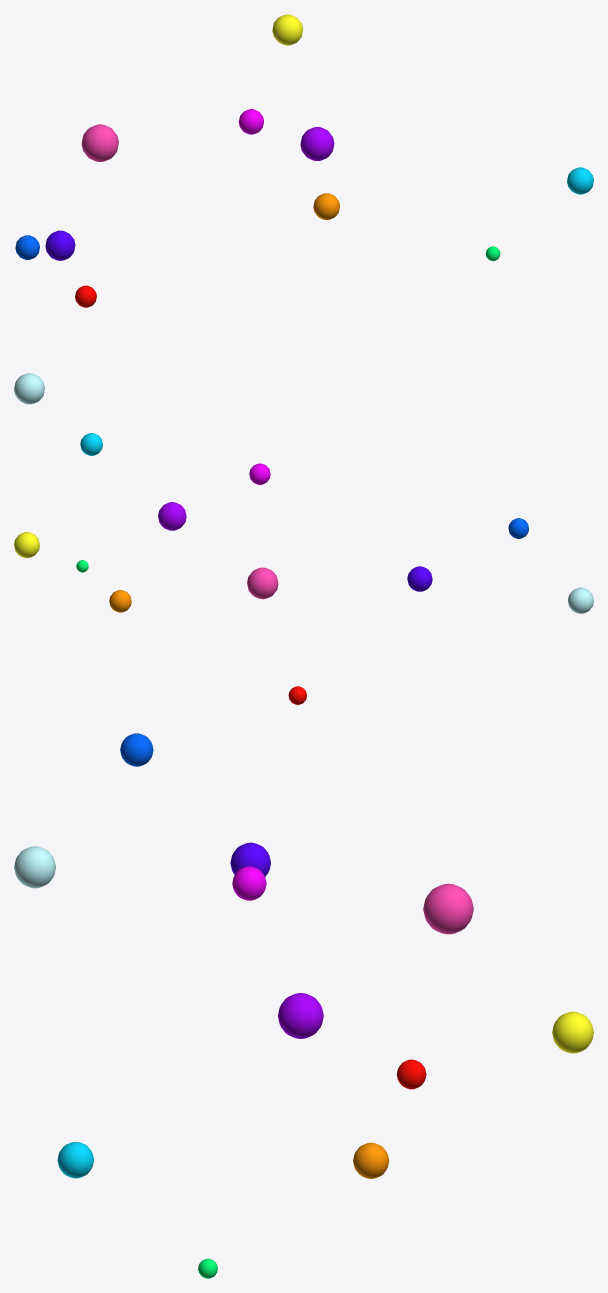
3 renders of one model, top to bottom at view 1: azimuth 30°, elevation 25°; view 2: azimuth 150°, elevation 25°; view 3: azimuth 270°, elevation 25°, orthographic. The views are drawn at different scales.
Parts seen in each view (by area): view 1: オブジェクト.001, オブジェクト.009, オブジェクト.008, オブジェクト.006, オブジェクト.005, オブジェクト.007, オブジェクト.010, オブジェクト.003; view 2: オブジェクト.001, オブジェクト.009, オブジェクト.008, オブジェクト.006, オブジェクト.005, オブジェクト.007, オブジェクト.010, オブジェクト.003; view 3: オブジェクト.001, オブジェクト.009, オブジェクト.008, オブジェクト.006, オブジェクト.007, オブジェクト.010, オブジェクト.005, オブジェクト.003, オブジェクト, オブジェクト.002.
Boxes of the visible parts, x1,y1,x2,y2 form: オブジェクト.001: (81,124,118,161); オブジェクト.009: (300,127,334,160); オブジェクト.008: (14,373,44,404); オブジェクト.006: (272,14,302,45); オブジェクト.005: (45,230,75,260); オブジェクト.007: (567,167,593,194); オブジェクト.010: (313,193,339,219); オブジェクト.003: (238,109,263,134); オブジェクト.001: (247,567,278,599); オブジェクト.009: (158,502,186,530); オブジェクト.008: (568,587,593,613); オブジェクト.006: (14,532,39,558); オブジェクト.005: (407,566,432,591); オブジェクト.007: (80,433,102,455); オブジェクト.010: (109,590,131,612); オブジェクト.003: (249,463,270,484); オブジェクト.001: (423,883,473,934); オブジェクト.009: (278,993,323,1038); オブジェクト.008: (14,846,55,888); オブジェクト.006: (552,1011,593,1053); オブジェクト.007: (57,1141,93,1178); オブジェクト.010: (353,1142,389,1178); オブジェクト.005: (230,842,270,876); オブジェクト.003: (232,866,266,900); オブジェクト: (120,733,153,766); オブジェクト.002: (396,1059,426,1089).
Size of the model in its own units: 74.44 by 25.84 by 46.98.
Materials: 1 (1 with a texture image).
